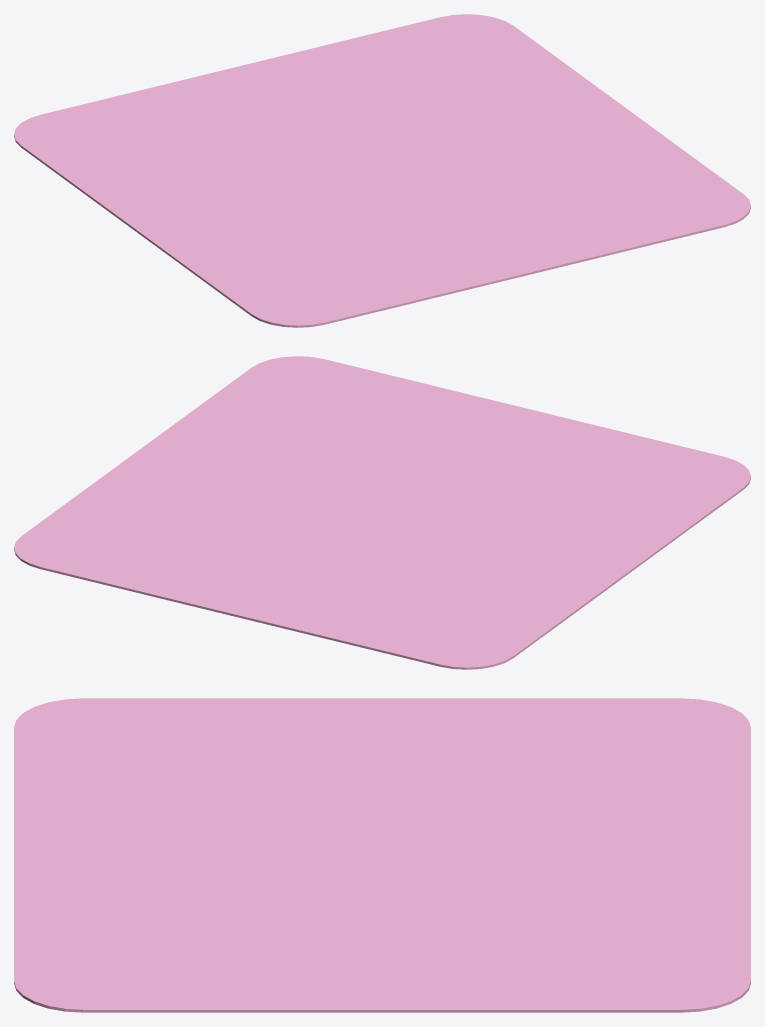
3 renders of one model, top to bottom at view 1: azimuth 30°, elevation 25°; view 2: azimuth 150°, elevation 25°; view 3: azimuth 270°, elevation 25°, orthographic. The views are drawn at different scales.
Parts seen in each view (by area): view 1: COM-02 Floor Surface; view 2: COM-02 Floor Surface; view 3: COM-02 Floor Surface.
Boxes of the visible parts, x1=… form: COM-02 Floor Surface: x1=14, y1=14, x2=750, y2=327; COM-02 Floor Surface: x1=14, y1=356, x2=750, y2=669; COM-02 Floor Surface: x1=14, y1=698, x2=750, y2=1012.
Bounding box in the file's own units: 1.92 × 0.008 × 1.92.
1 material, 1 textured.
